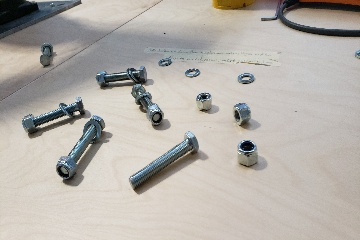Bolt: (124, 126, 204, 193)
FalseAssembly: (52, 115, 114, 184), (20, 93, 86, 135), (39, 38, 55, 69)
FinishedAssembly: (129, 85, 167, 127), (95, 65, 150, 87)
Nut: (235, 138, 260, 170), (228, 101, 254, 125), (194, 91, 214, 113)
Washer: (234, 72, 256, 85), (157, 58, 174, 68), (184, 67, 201, 77)
